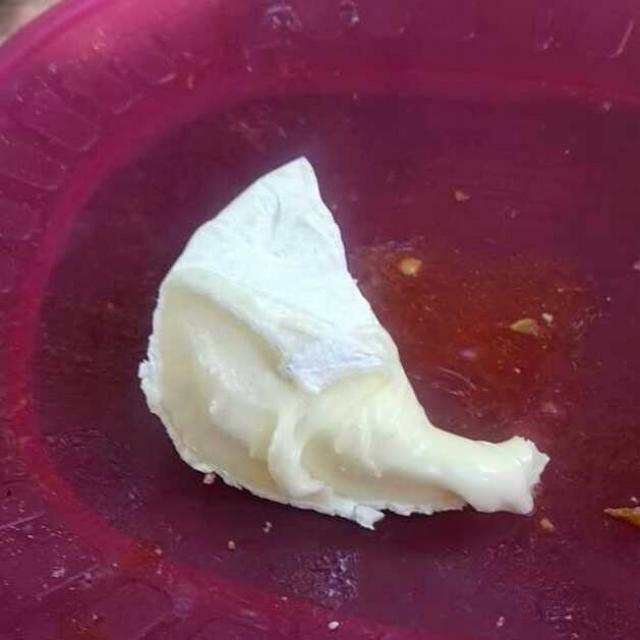cheese: (144, 166, 544, 517)
